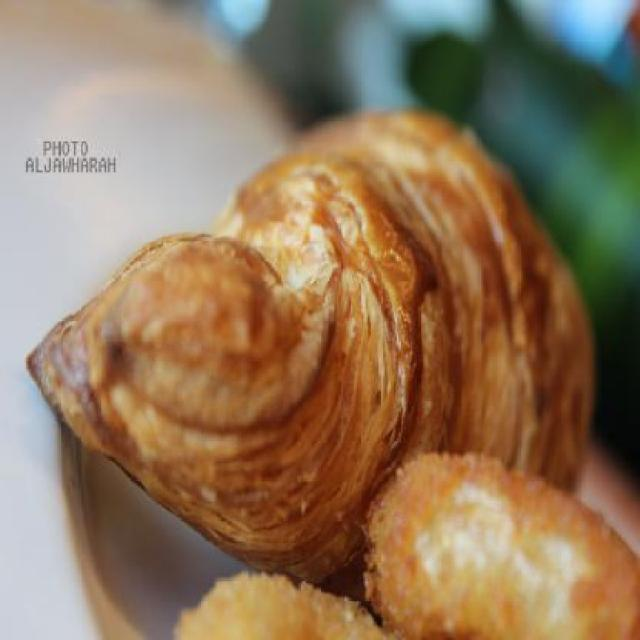Croissant: (26, 104, 599, 627)
